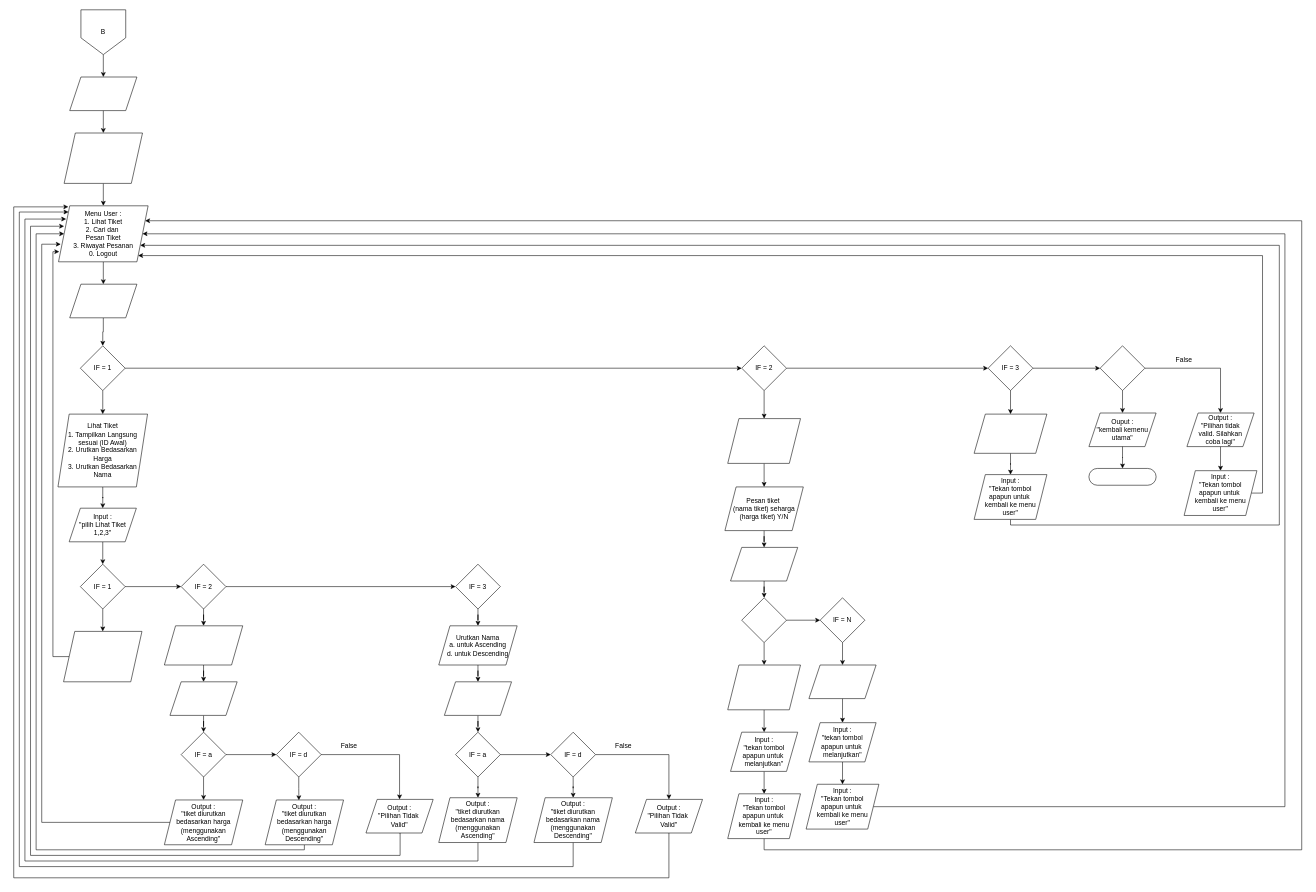
The diagram is 1316 pixels wide and 892 high, and some of its shapes have lost their labels. Each missing label, with the centre of its shape:
IF = 0: (1122,368)
IF = Y: (764,620)
Input : "Masukan ID tiket yang ingin dipesan dari daftar di atas": (764,440)
Input : "Pesan Tiket Y/N": (764,564)
Input : "pesanan dibatalkan": (842,681)
Input : "Pilih menu 1,2,3,0": (103,301)
Input : "Tekan tombol apapun untuk masuk ke Menu user....": (103,157)
Input : "Urutkan Harga a,d": (203,698)
Input : "Urutkan Nama a,d": (478,698)
Ouput : "menampilkan riwayat pemesanan anda": (1010,433)
Output : "Menampilkan tiket sesuai dengan urutan saat ini": (102,656)
Output : "Selamat datang (nama user)": (103,93)
Output : "Tiket (nama tiket) berhasil di pesan": (764,687)
Return: (1122,476)
Urutkan Harga a. untuk Ascending d. untuk Descending: (203,645)
